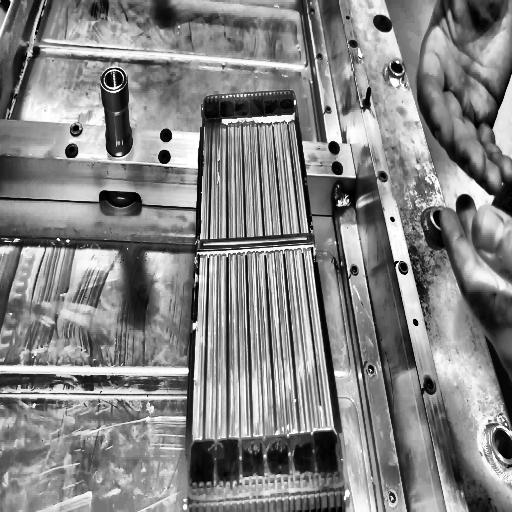battery_module: (185, 89, 346, 500)
